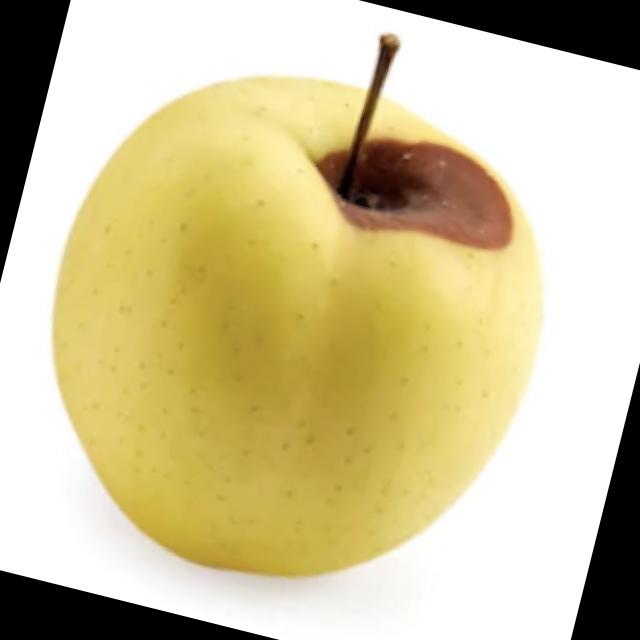rotten_apple: (0, 0, 601, 633)
